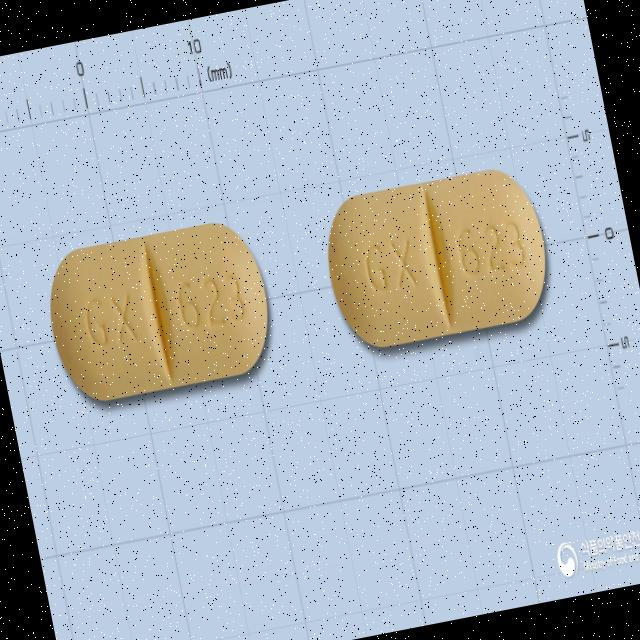Ziagen Tab: (38, 214, 282, 411), (315, 162, 560, 356)
